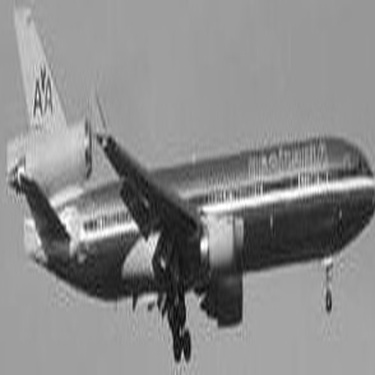airplane: (8, 1, 372, 371)
